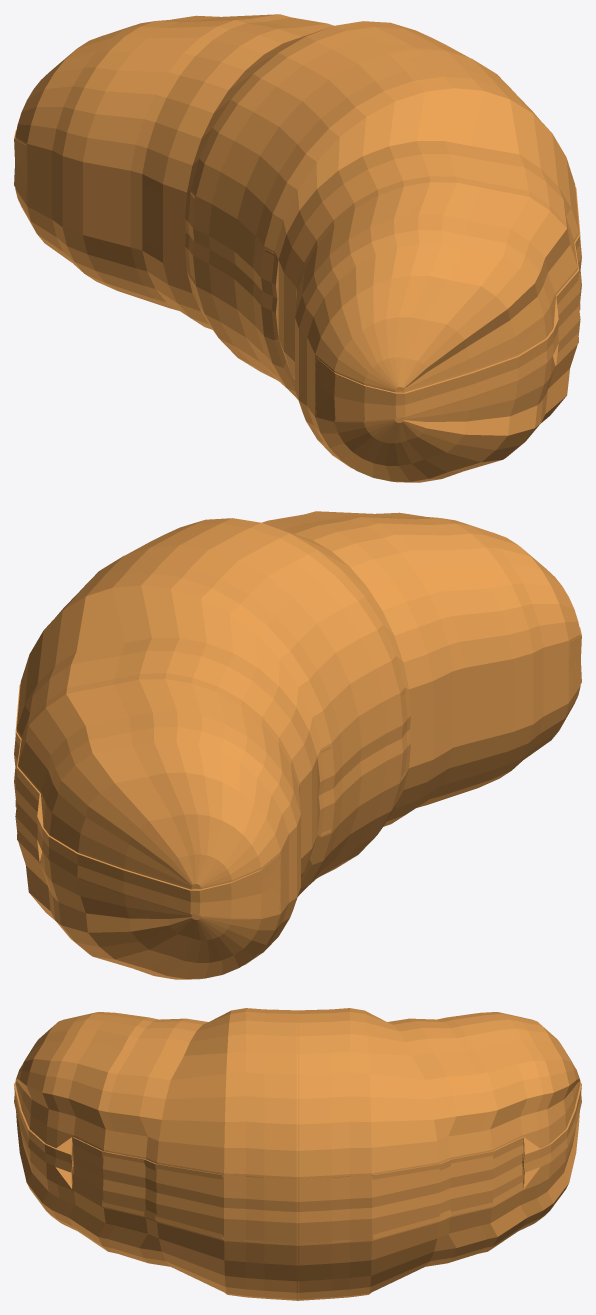
The model's file is Croissant.fbx.
3 views of the same model, one above another, from view 1: azimuth 30°, elevation 25°; view 2: azimuth 150°, elevation 25°; view 3: azimuth 270°, elevation 25° (orthographic). The views are drawn at different scales.
Visible parts, largest first — view 1: Croissant; view 2: Croissant; view 3: Croissant.
Part boxes in pixels (x1,y1,x2,y2): Croissant: [14, 14, 581, 482]; Croissant: [14, 511, 581, 979]; Croissant: [14, 1008, 581, 1300].
Size of the model in its own units: 28.27 by 31.37 by 54.8.
